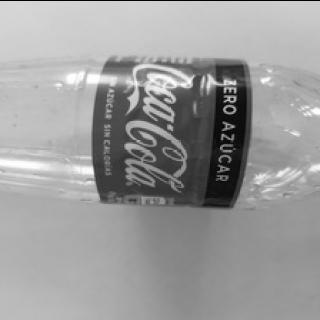plastic_bottles: (0, 47, 320, 212)
